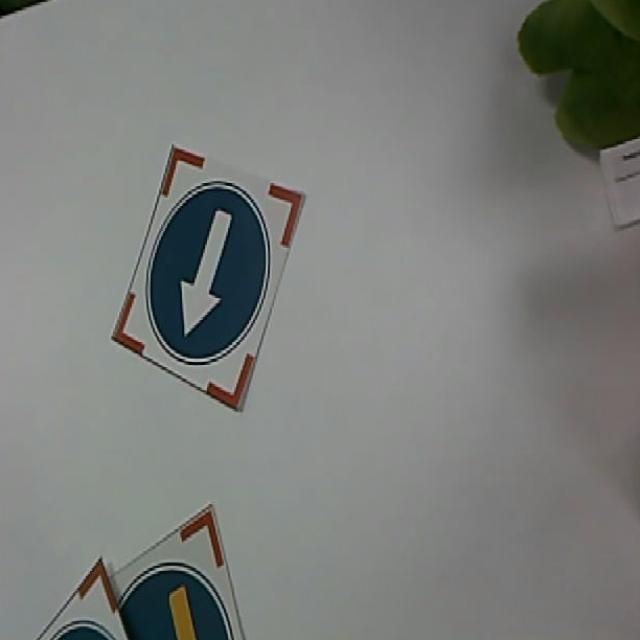straight: (113, 140, 304, 413)
